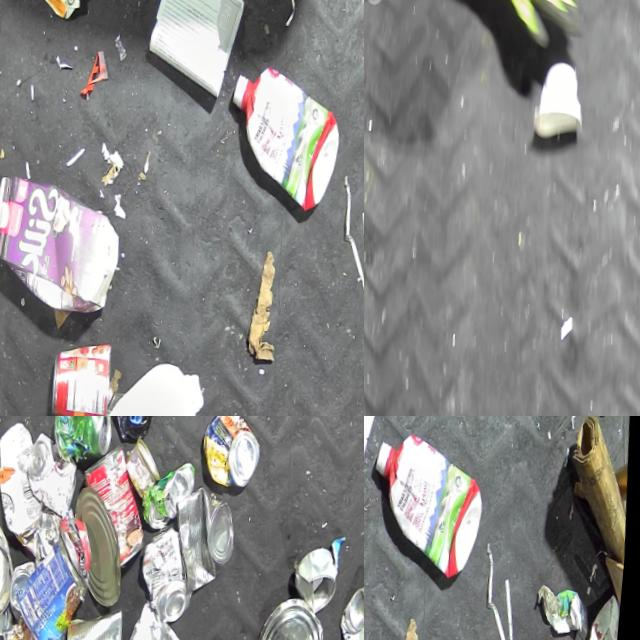can: (83, 442, 161, 569), (20, 532, 106, 640), (177, 482, 249, 595), (76, 484, 138, 606), (53, 330, 130, 416), (146, 523, 207, 622), (32, 429, 91, 518), (206, 416, 271, 487), (149, 458, 206, 529), (261, 590, 341, 640), (300, 545, 351, 613), (59, 416, 124, 462), (0, 518, 29, 617), (129, 435, 172, 498), (72, 603, 137, 640), (588, 586, 627, 640), (17, 558, 48, 621), (10, 620, 81, 640), (344, 578, 364, 640), (0, 603, 25, 640), (191, 632, 250, 640)
milk_jug: (100, 346, 222, 416)
non_white_jug: (371, 426, 496, 579)
